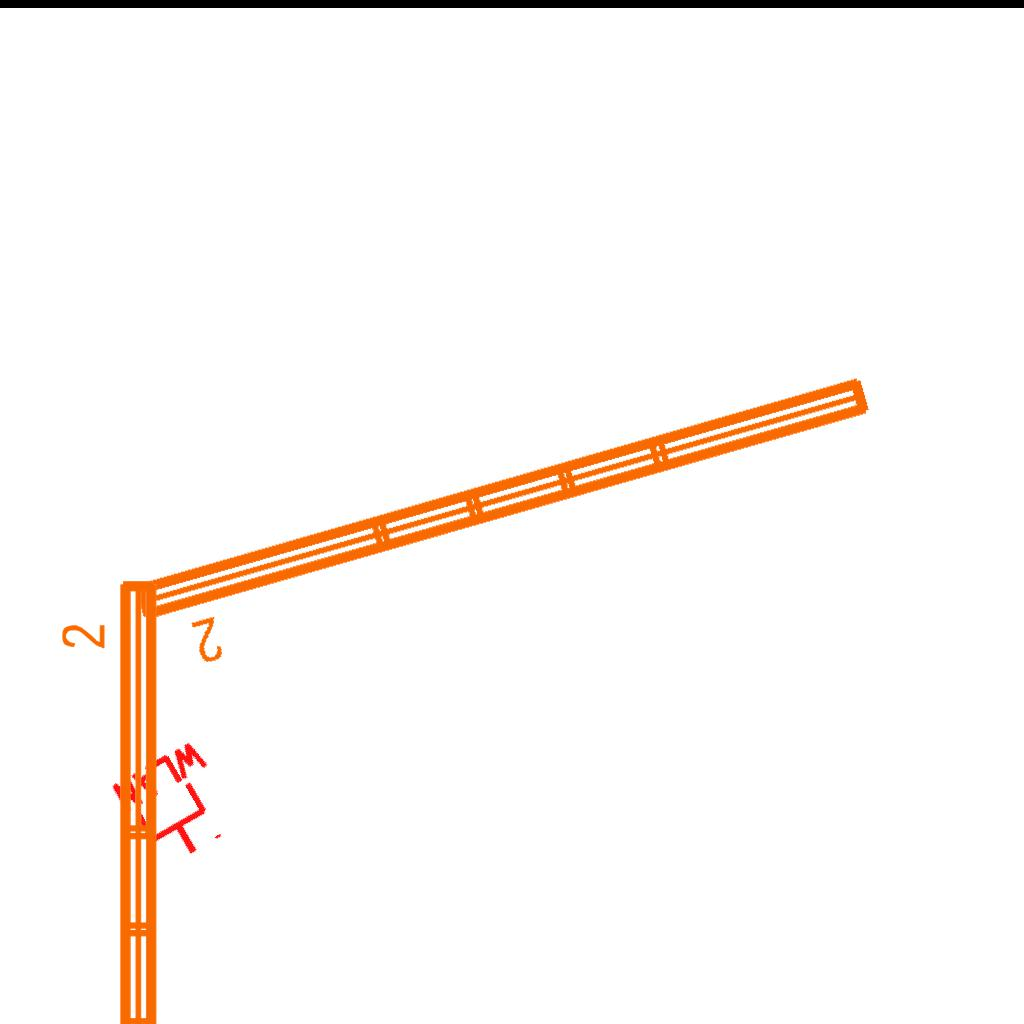Ambulanz_Pendelleuchte_LED: (122, 362, 898, 684), (57, 572, 169, 1024)
WLAN: (106, 734, 249, 878)
